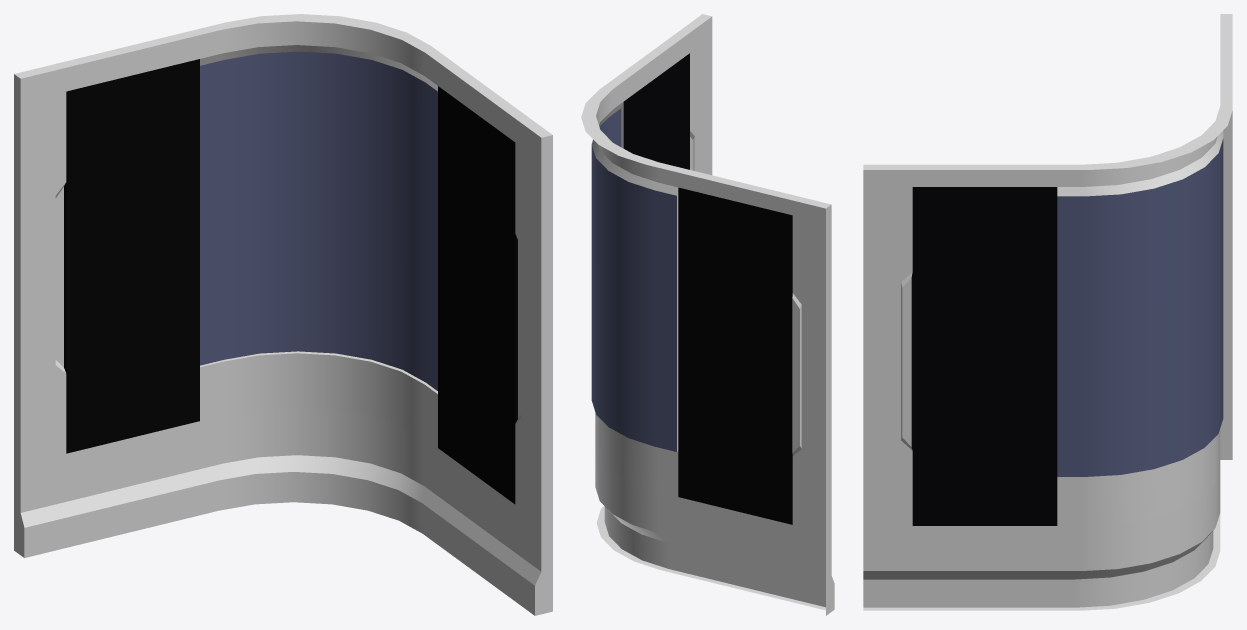
The model's file is WallFancy3CornerInner.glb.
3 renders of one model, left to right at view 1: azimuth 30°, elevation 25°; view 2: azimuth 150°, elevation 25°; view 3: azimuth 270°, elevation 25°, orthographic. The views are drawn at different scales.
Visible parts, largest first — view 1: WallFancy3CornerInner; view 2: WallFancy3CornerInner; view 3: WallFancy3CornerInner.
Part boxes in pixels (x1,y1,x2,y2): WallFancy3CornerInner: [14, 14, 552, 615]; WallFancy3CornerInner: [581, 14, 834, 615]; WallFancy3CornerInner: [863, 14, 1232, 610].
Bounding box in the file's own units: 3 × 4 × 3.
